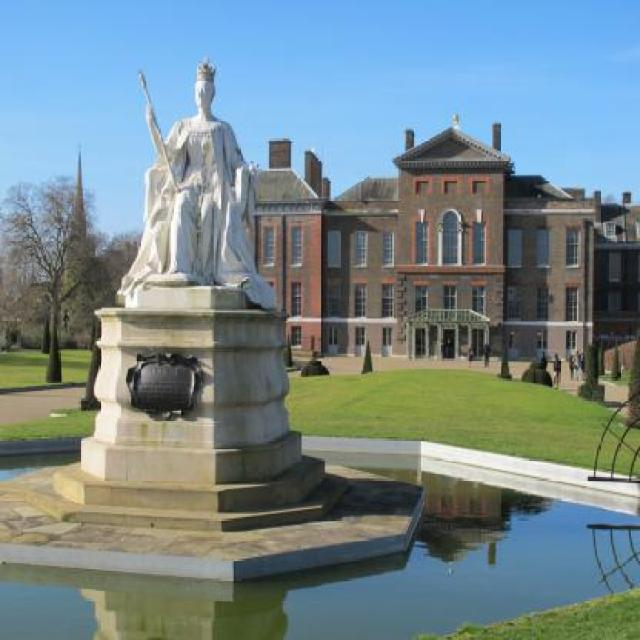Person: (115, 77, 278, 312)
